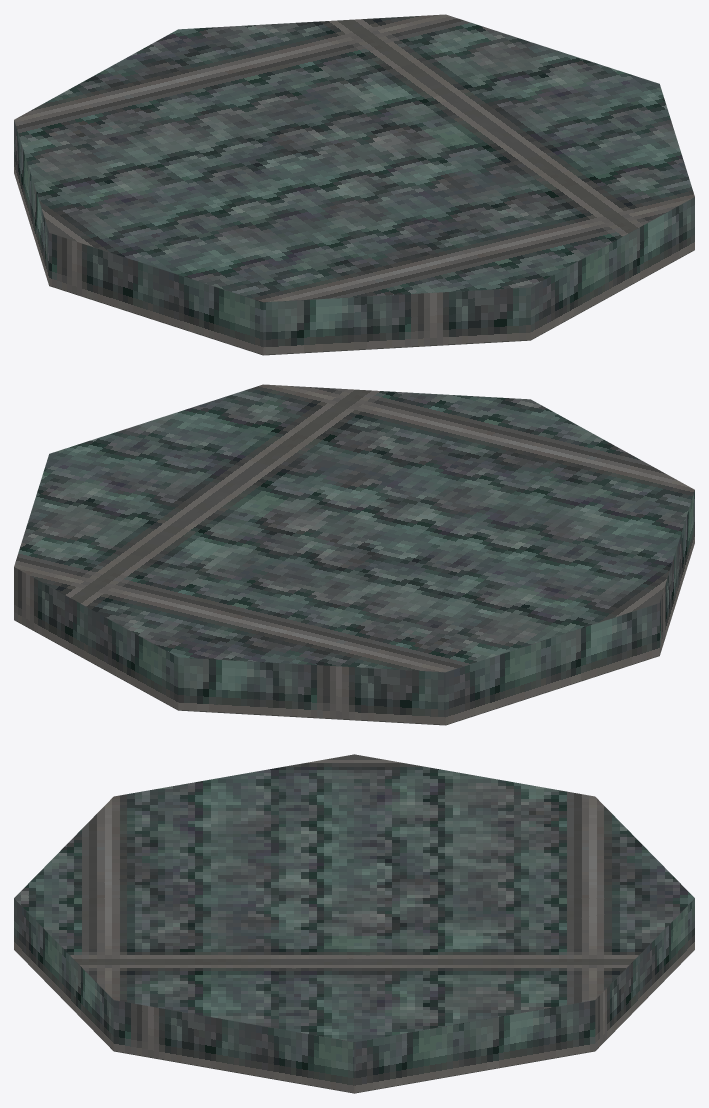
File: overhang_round.glb
3 renders of one model, top to bottom at view 1: azimuth 30°, elevation 25°; view 2: azimuth 150°, elevation 25°; view 3: azimuth 270°, elevation 25°, orthographic. The views are drawn at different scales.
Parts seen in each view (by area): view 1: overhang-round; view 2: overhang-round; view 3: overhang-round.
Part boxes in pixels (x1,y1,x2,y2): overhang-round: (14,14,694,355); overhang-round: (14,384,694,725); overhang-round: (14,754,694,1093).
Size of the model in its own units: 1.5 by 0.125 by 1.5.
1 material, 1 textured.
